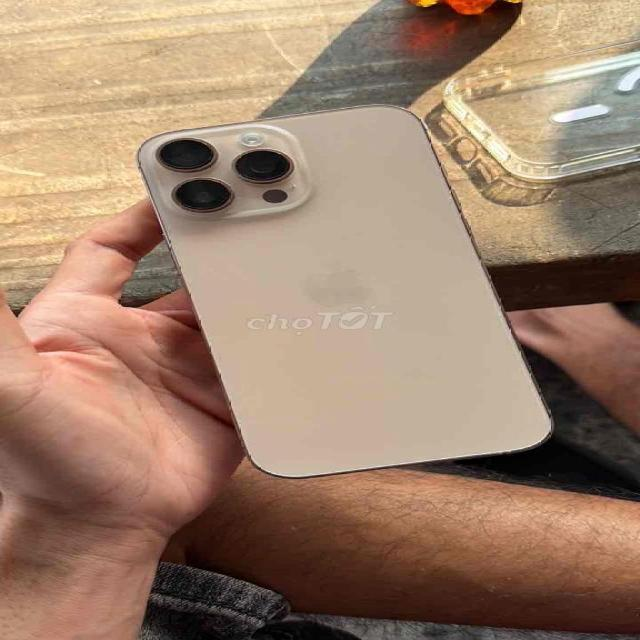gen_16: (119, 104, 556, 479)
